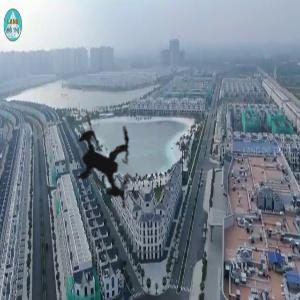drone: (36, 92, 179, 235)
